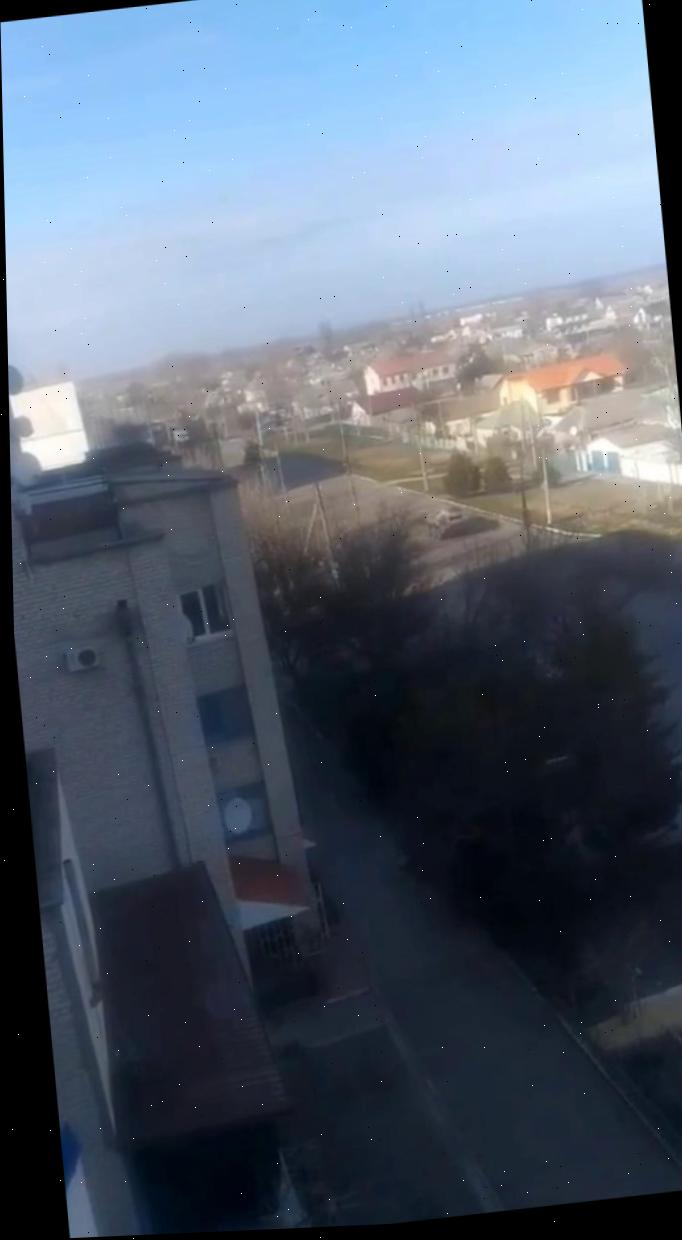tank: (421, 501, 477, 549)
